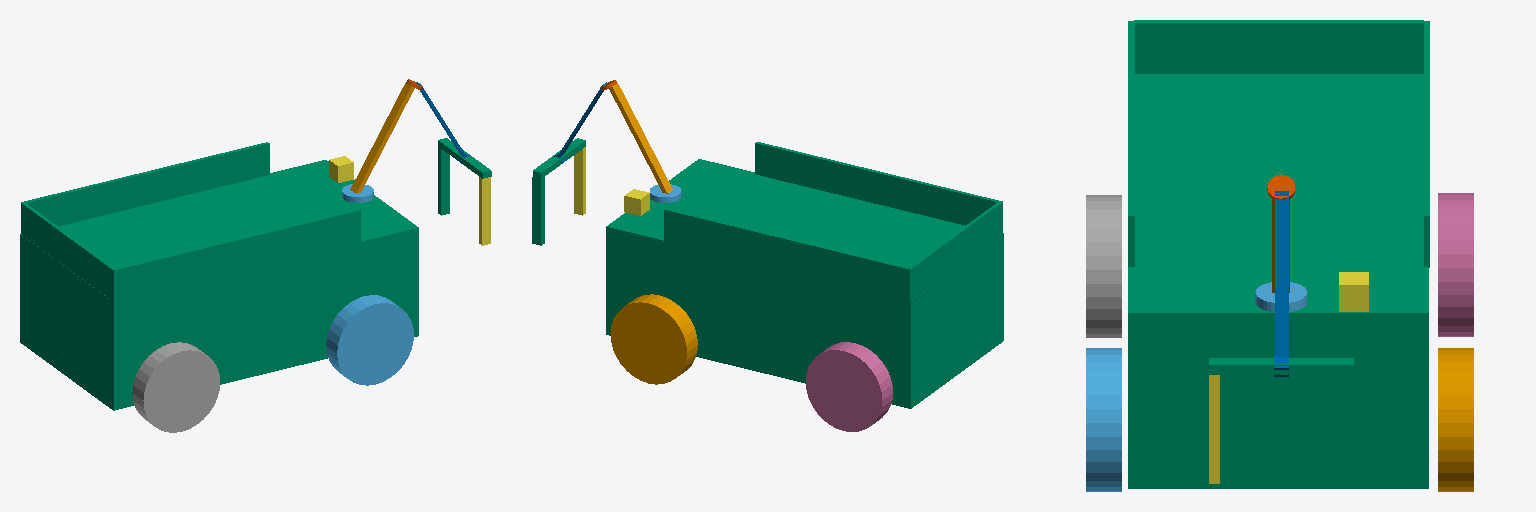
The robot description file, URDF, robot "rover":
<?xml version="1.0"?>
  <robot name="rover">

    <link name="LinkFirstAxis">
      <inertial>
        <origin xyz="0 0 0" rpy="0 0 0"/>
        <mass value="1"/>
        <inertia ixx="10" ixy="10" ixz="10" iyy="10" iyz="10" izz="10"/>
      </inertial>
      <visual>
        <origin xyz="0 0 0" rpy="0 3.14159 0"/>
        <geometry>
          <box size="0.05499 0.1206 1.3267"/>
        </geometry>
      </visual>
      <collision name="FirstAxis">
        <origin xyz="0 0 0" rpy="0 3.14159 0"/>
        <geometry>
          <box size="0.05499 0.1206 1.3267"/>
        </geometry>
      </collision>
    </link>

    <link name="LinkFirstCylinder">
      <inertial>
        <origin xyz="0 0 0" rpy="0 0 0"/>
        <mass value="1"/>
        <inertia ixx="10" ixy="10" ixz="10" iyy="10" iyz="10" izz="10"/>
      </inertial>
      <visual>
        <origin xyz="0 0 0" rpy="0 0 0"/>
        <geometry>
          <cylinder radius="0.17273" length="0.07044"/>
        </geometry>
      </visual>
    </link>

    <link name="LinkMainTool">
      <inertial>
        <origin xyz="0 0 0" rpy="0 0 0"/>
        <mass value="1"/>
        <inertia ixx="10" ixy="10" ixz="10" iyy="10" iyz="10" izz="10"/>
      </inertial>
      <visual>
        <origin xyz="0 -0.4457 0.43202" rpy="1.5708 0 0"/>
        <geometry>
          <box size="0.11162 0.79854 0.07285"/>
        </geometry>
      </visual>
      <visual>
        <origin xyz="0 0 0" rpy="0 0 0"/>
        <geometry>
          <box size="0.11162 0.96219 0.07285"/>
        </geometry>
      </visual>
      <collision name="FixedTool">
        <origin xyz="0 -0.4457 0.43202" rpy="1.5708 0 0"/>
        <geometry>
          <box size="0.11162 0.79854 0.07285"/>
        </geometry>
      </collision>
      <collision name="MainTool">
        <origin xyz="0 0 0" rpy="0 0 0"/>
        <geometry>
          <box size="0.11162 0.96219 0.07285"/>
        </geometry>
      </collision>
    </link>

    <link name="LinkPrismaticTool">
      <inertial>
        <origin xyz="0 0 0" rpy="0 0 0"/>
        <mass value="1"/>
        <inertia ixx="10" ixy="10" ixz="10" iyy="10" iyz="10" izz="10"/>
      </inertial>
      <visual>
        <origin xyz="0 0 0" rpy="0 0 0"/>
        <geometry>
          <box size="0.11162 0.79854 0.07285"/>
        </geometry>
      </visual>
      <collision name="PrismaticTool">
        <origin xyz="0 0 0" rpy="0 0 0"/>
        <geometry>
          <box size="0.11162 0.79854 0.07285"/>
        </geometry>
      </collision>
    </link>

    <link name="LinkSecondAxis">
      <inertial>
        <origin xyz="0 0 0" rpy="0 0 0"/>
        <mass value="1"/>
        <inertia ixx="10" ixy="10" ixz="10" iyy="10" iyz="10" izz="10"/>
      </inertial>
      <visual>
        <origin xyz="0 0 0" rpy="0 3.14159 0"/>
        <geometry>
          <box size="0.02784 0.09213 1.15343"/>
        </geometry>
      </visual>
      <collision name="SecondAxis">
        <origin xyz="0 0 0" rpy="0 3.14159 0"/>
        <geometry>
          <box size="0.02784 0.09213 1.15343"/>
        </geometry>
      </collision>
    </link>

    <link name="LinkSecondCylinder">
      <inertial>
        <origin xyz="0 0 0" rpy="0 0 0"/>
        <mass value="1"/>
        <inertia ixx="10" ixy="10" ixz="10" iyy="10" iyz="10" izz="10"/>
      </inertial>
      <visual>
        <origin xyz="0 0 0" rpy="0 0 0"/>
        <geometry>
          <cylinder radius="0.09296" length="0.03791"/>
        </geometry>
      </visual>
    </link>

    <link name="LinkWheelBackLeft">
      <inertial>
        <origin xyz="0 0 0" rpy="0 0 0"/>
        <mass value="50"/>
        <inertia ixx="10" ixy="10" ixz="10" iyy="10" iyz="10" izz="10"/>
      </inertial>
      <visual>
        <origin xyz="0 0 0" rpy="0 0 0"/>
        <geometry>
          <cylinder radius="0.47719" length="0.23635"/>
        </geometry>
      </visual>
      <collision name="WheelBackLeft">
        <origin xyz="0 0 0" rpy="0 0 0"/>
        <geometry>
          <cylinder radius="0.47719" length="0.23635"/>
        </geometry>
      </collision>
    </link>

    <link name="LinkWheelBackRight">
      <inertial>
        <origin xyz="0 0 0" rpy="0 0 0"/>
        <mass value="50"/>
        <inertia ixx="10" ixy="10" ixz="10" iyy="10" iyz="10" izz="10"/>
      </inertial>
      <visual>
        <origin xyz="0 0 0" rpy="0 0 0"/>
        <geometry>
          <cylinder radius="0.47719" length="0.23635"/>
        </geometry>
      </visual>
      <collision name="WheelBackRight">
        <origin xyz="0 0 0" rpy="0 0 0"/>
        <geometry>
          <cylinder radius="0.47719" length="0.23635"/>
        </geometry>
      </collision>
    </link>

    <link name="LinkWheelFrontLeft">
      <inertial>
        <origin xyz="0 0 0" rpy="0 0 0"/>
        <mass value="50"/>
        <inertia ixx="10" ixy="10" ixz="10" iyy="10" iyz="10" izz="10"/>
      </inertial>
      <visual>
        <origin xyz="0 0 0" rpy="0 0 0"/>
        <geometry>
          <cylinder radius="0.47719" length="0.23635"/>
        </geometry>
      </visual>
      <collision name="WheelFrontLeft">
        <origin xyz="0 0 0" rpy="0 0 0"/>
        <geometry>
          <cylinder radius="0.47719" length="0.23635"/>
        </geometry>
      </collision>
    </link>

    <link name="LinkWheelFrontRight">
      <inertial>
        <origin xyz="0 0 0" rpy="0 0 0"/>
        <mass value="50"/>
        <inertia ixx="10" ixy="10" ixz="10" iyy="10" iyz="10" izz="10"/>
      </inertial>
      <visual>
        <origin xyz="0 0 0" rpy="0 0 0"/>
        <geometry>
          <cylinder radius="0.47719" length="0.23635"/>
        </geometry>
      </visual>
      <collision name="WheelFrontRight">
        <origin xyz="0 0 0" rpy="0 0 0"/>
        <geometry>
          <cylinder radius="0.47719" length="0.23635"/>
        </geometry>
      </collision>
    </link>

    <link name="MainLink">
      <inertial>
        <origin xyz="0 0 0" rpy="0 0 0"/>
        <mass value="80.0"/>
        <inertia ixx="10" ixy="10" ixz="10" iyy="10" iyz="10" izz="10"/>
      </inertial>
      <visual>
        <origin xyz="0 0 0" rpy="0 0 0"/>
        <geometry>
          <box size="3.79233 2.0 1.28901"/>
        </geometry>
      </visual>
      <visual>
        <origin xyz="-1.87213 0 0.82748" rpy="0 0 1.5708"/>
        <geometry>
          <box size="1.92416 0.0425 0.38178"/>
        </geometry>
      </visual>
      <visual>
        <origin xyz="-0.3584 0.98504 0.82748" rpy="0 0 0"/>
        <geometry>
          <box size="3.06457 0.0425 0.38178"/>
        </geometry>
      </visual>
      <visual>
        <origin xyz="-0.3584 -0.97745 0.82748" rpy="0 0 0"/>
        <geometry>
          <box size="3.06457 0.0425 0.38178"/>
        </geometry>
      </visual>
      <collision name="MainCube">
        <origin xyz="0 0 0" rpy="0 0 0"/>
        <geometry>
          <box size="3.79233 2.0 1.28901"/>
        </geometry>
      </collision>
      <collision name="MiniBoxBack">
        <origin xyz="-1.87213 0 0.82748" rpy="0 0 1.5708"/>
        <geometry>
          <box size="1.92416 0.0425 0.38178"/>
        </geometry>
      </collision>
      <collision name="MiniBoxLeft">
        <origin xyz="-0.3584 0.98504 0.82748" rpy="0 0 0"/>
        <geometry>
          <box size="3.06457 0.0425 0.38178"/>
        </geometry>
      </collision>
      <collision name="MiniBoxRight">
        <origin xyz="-0.3584 -0.97745 0.82748" rpy="0 0 0"/>
        <geometry>
          <box size="3.06457 0.0425 0.38178"/>
        </geometry>
      </collision>
    </link>

    <link name="CameraLink">
      <inertial>
        <origin xyz="0 0 0" rpy="0 0 0"/>
        <mass value="1.0"/>
        <inertia ixx="10" ixy="10" ixz="10" iyy="10" iyz="10" izz="10"/>
      </inertial>
      <visual>
        <origin xyz="0 0 0" rpy="0 0 0"/>
        <geometry>
          <box size="0.2 0.2 0.2"/>
        </geometry>
      </visual>
      <collision name="collision">
        <origin xyz="0 0 0" rpy="0 0 0"/>
        <geometry>
          <box size="0.2 0.2 0.2"/>
        </geometry>
      </collision>
    </link>

    <link name="CameraToolLink">
      <visual>
        <origin xyz="0 0 0" rpy="0 0 0"/>
        <geometry>
          <box size="0.1 0.1 0.1"/>
        </geometry>
      </visual>
    </link>

   <joint name="JointFirstAxis" type="continuous">
      <origin xyz="0.30496 -0.00153 0.57386" rpy="0 -0.55364 -3.14159"/>
      <parent link="LinkFirstCylinder"/>
      <child link="LinkFirstAxis"/>
      <axis xyz="0 0 1.0"/>
    </joint>

    <joint name="JointFirstCylinder" type="continuous">
      <origin xyz="1.72438 0.01793 0.67942" rpy="0 0 0"/>
      <parent link="MainLink"/>
      <child link="LinkFirstCylinder"/>
      <axis xyz="0 -0.99528 -0.09705"/>
    </joint>

    <joint name="JointMainTool" type="continuous">
      <origin xyz="0.00634 0.0044 -0.59229" rpy="0 2.62128 0"/>
      <parent link="LinkSecondAxis"/>
      <child link="LinkMainTool"/>
      <axis xyz="0.06699 -0.99767 0.01285"/>
    </joint>

    <joint name="JointPrismaticTool" type="prismatic">
      <origin xyz="0 0.44383 0.43202" rpy="1.5708 0 0"/>
      <parent link="LinkMainTool"/>
      <child link="LinkPrismaticTool"/>
      <axis xyz="0 0 1.0"/>
      <limit lower="0" upper="0.5" effort="10" velocity="10"/>
    </joint>

    <joint name="JointSecondAxis" type="continuous">
      <origin xyz="0.54297 0.00247 -0.25169" rpy="0 1.07395 -3.14159"/>
      <parent link="LinkSecondCylinder"/>
      <child link="LinkSecondAxis"/>
      <axis xyz="-0.21236 0.04177 -0.9763"/>
    </joint>

    <joint name="JointSecondCylinder" type="continuous">
      <origin xyz="-0.05158 -0.00153 0.67936" rpy="0 0 3.14159"/>
      <parent link="LinkFirstAxis"/>
      <child link="LinkSecondCylinder"/>
      <axis xyz="0 0 1.0"/>
    </joint>

    <joint name="joint_camera" type="fixed">
      <origin xyz="1.8 0.5 0.75" rpy="0 0 0"/>
      <parent link="MainLink"/>
      <child link="CameraLink"/>
      <axis xyz="0 0 1.0"/>
    </joint>

    <joint name="joint_camera_tool" type="fixed">
      <origin xyz="0 0 0" rpy="0 -90 0"/>
      <parent link="LinkMainTool"/>
      <child link="CameraToolLink"/>
      <axis xyz="0 0 1.0"/>
    </joint>

    <joint name="joint_wheel_back_left" type="continuous">
      <origin xyz="-1.23386 1.1772 -0.46428" rpy="1.5708 0 0"/>
      <parent link="MainLink"/>
      <child link="LinkWheelBackLeft"/>
      <axis xyz="0 0 -1.0"/>
    </joint>

    <joint name="joint_wheel_back_right" type="continuous">
      <origin xyz="-1.20753 -1.15931 -0.46427" rpy="1.5708 0 0"/>
      <parent link="MainLink"/>
      <child link="LinkWheelBackRight"/>
      <axis xyz="0 0 -1.0"/>
    </joint>

    <joint name="joint_wheel_front_left" type="continuous">
      <origin xyz="1.19673 1.1772 -0.46427" rpy="1.5708 0 0"/>
      <parent link="MainLink"/>
      <child link="LinkWheelFrontLeft"/>
      <axis xyz="0 0 -1.0"/>
    </joint>

    <joint name="joint_wheel_front_right" type="continuous">
      <origin xyz="1.19673 -1.15931 -0.46427" rpy="1.5708 0 0"/>
      <parent link="MainLink"/>
      <child link="LinkWheelFrontRight"/>
      <axis xyz="0 0 -1.0"/>
    </joint>

    <gazebo>
      <plugin name="gazebo_ros_control" filename="libgazebo_ros_control.so">
        <robotNamespace>/rover</robotNamespace>
      </plugin>
    </gazebo>

    <gazebo reference="CameraLink">
      <sensor name='cam_sensor' type='camera'>
        <pose>1.8 0.5 0.75 0 0 0</pose>
        <update_rate>20.000000</update_rate>
        <camera name='CameraLink'>
          <horizontal_fov>1.570000</horizontal_fov>
          <image>
            <width>320</width>
            <height>240</height>
            <format>R8G8B8</format>
          </image>
          <clip>
            <near>0.100000</near>
            <far>15.000000</far>
          </clip>
        </camera>
        <plugin name="camera_controller" filename="libgazebo_ros_camera.so">
          <alwaysOn>true</alwaysOn>
          <updateRate>0.0</updateRate>
          <cameraName>camera</cameraName>
          <imageTopicName>image_raw</imageTopicName>
          <cameraInfoTopicName>camera_info</cameraInfoTopicName>
          <frameName>camera_top_body</frameName>
          <hackBaseline>0.07</hackBaseline>
          <distortionK1>0.0</distortionK1>
          <distortionK2>0.0</distortionK2>
          <distortionK3>0.0</distortionK3>
          <distortionT1>0.0</distortionT1>
          <distortionT2>0.0</distortionT2>
        </plugin>
      </sensor>
    </gazebo>

    <gazebo reference="CameraToolLink">
      <sensor name='cam_sensor' type='camera'>
        <pose>1.8 0.5 5 0 0 0</pose>
        <update_rate>20.000000</update_rate>
        <camera name='CameraToolLink'>
          <horizontal_fov>1.570000</horizontal_fov>
          <image>
            <width>320</width>
            <height>240</height>
            <format>R8G8B8</format>
          </image>
          <clip>
            <near>0.100000</near>
            <far>15.000000</far>
          </clip>
        </camera>
        <plugin name="camera_controller" filename="libgazebo_ros_camera.so">
          <alwaysOn>true</alwaysOn>
          <updateRate>0.0</updateRate>
          <cameraName>camera_tool</cameraName>
          <imageTopicName>image_raw</imageTopicName>
          <cameraInfoTopicName>camera_info</cameraInfoTopicName>
          <frameName>camera_top_body</frameName>
          <hackBaseline>0.07</hackBaseline>
          <distortionK1>0.0</distortionK1>
          <distortionK2>0.0</distortionK2>
          <distortionK3>0.0</distortionK3>
          <distortionT1>0.0</distortionT1>
          <distortionT2>0.0</distortionT2>
        </plugin>
      </sensor>
    </gazebo>

    <transmission name="joint_wheel_front_right_trans">
      <type>transmission_interface/SimpleTransmission</type>
      <actuator name="motor1">
        <mechanicalReduction>1</mechanicalReduction>
      </actuator>
      <joint name="joint_wheel_front_right">
        <hardwareInterface>hardware_interface/VelocityJointInterface</hardwareInterface>
      </joint>
    </transmission>

    <transmission name="joint_wheel_front_left_trans">
      <type>transmission_interface/SimpleTransmission</type>
      <actuator name="motor2">
        <mechanicalReduction>1</mechanicalReduction>
        <hardwareInterface>hardware_interface/VelocityJointInterface</hardwareInterface>
      </actuator>
      <joint name="joint_wheel_front_left">
        <hardwareInterface>hardware_interface/VelocityJointInterface</hardwareInterface>
      </joint>
    </transmission>

    <transmission name="joint_wheel_back_right_trans">
      <type>transmission_interface/SimpleTransmission</type>
      <actuator name="motor3">
        <mechanicalReduction>1</mechanicalReduction>
        <hardwareInterface>hardware_interface/VelocityJointInterface</hardwareInterface>
      </actuator>
      <joint name="joint_wheel_back_right">
        <hardwareInterface>hardware_interface/VelocityJointInterface</hardwareInterface>
      </joint>
    </transmission>

    <transmission name="joint_wheel_back_left_trans">
      <type>transmission_interface/SimpleTransmission</type>
      <actuator name="motor4">
        <mechanicalReduction>1</mechanicalReduction>
        <hardwareInterface>hardware_interface/VelocityJointInterface</hardwareInterface>
      </actuator>
      <joint name="joint_wheel_back_left">
        <hardwareInterface>hardware_interface/VelocityJointInterface</hardwareInterface>
      </joint>
    </transmission>

    <transmission name="joint_first_axis_trans">
      <type>transmission_interface/SimpleTransmission</type>
      <actuator name="motor5">
        <mechanicalReduction>1</mechanicalReduction>
        <hardwareInterface>hardware_interface/VelocityJointInterface</hardwareInterface>
      </actuator>
      <joint name="JointFirstAxis">
        <hardwareInterface>hardware_interface/VelocityJointInterface</hardwareInterface>
      </joint>
    </transmission>

    <transmission name="joint_first_cylinder_trans">
      <type>transmission_interface/SimpleTransmission</type>
      <actuator name="motor5">
        <mechanicalReduction>1</mechanicalReduction>
        <hardwareInterface>hardware_interface/VelocityJointInterface</hardwareInterface>
      </actuator>
      <joint name="JointFirstCylinder">
        <hardwareInterface>hardware_interface/VelocityJointInterface</hardwareInterface>
      </joint>
    </transmission>

    <transmission name=" joint_main_tool_trans">
      <type>transmission_interface/SimpleTransmission</type>
      <actuator name="motor6">
        <mechanicalReduction>1</mechanicalReduction>
        <hardwareInterface>hardware_interface/VelocityJointInterface</hardwareInterface>
      </actuator>
      <joint name="JointMainTool">
        <hardwareInterface>hardware_interface/VelocityJointInterface</hardwareInterface>
      </joint>
    </transmission>

    <transmission name="joint_prismatic_tool_trans">
      <type>transmission_interface/SimpleTransmission</type>
      <actuator name="motor7">
        <mechanicalReduction>1</mechanicalReduction>
        <hardwareInterface>hardware_interface/VelocityJointInterface</hardwareInterface>
      </actuator>
      <joint name="JointPrismaticTool">
        <hardwareInterface>hardware_interface/VelocityJointInterface</hardwareInterface>
      </joint>
    </transmission>

    <transmission name="joint_second_axis_trans">
      <type>transmission_interface/SimpleTransmission</type>
      <actuator name="motor8">
        <mechanicalReduction>1</mechanicalReduction>
        <hardwareInterface>hardware_interface/VelocityJointInterface</hardwareInterface>
      </actuator>
      <joint name="JointSecondAxis">
        <hardwareInterface>hardware_interface/VelocityJointInterface</hardwareInterface>
      </joint>
    </transmission>

    <transmission name="joint_second_cylinder_trans">
      <type>transmission_interface/SimpleTransmission</type>
      <actuator name="motor9">
        <mechanicalReduction>1</mechanicalReduction>
        <hardwareInterface>hardware_interface/VelocityJointInterface</hardwareInterface>
      </actuator>
      <joint name="JointSecondCylinder">
        <hardwareInterface>hardware_interface/VelocityJointInterface</hardwareInterface>
      </joint>
    </transmission>

    <gazebo reference="MainLink">
      <material>Gazebo/Red</material>
    </gazebo>

    <gazebo reference="LinkFirstAxis">
      <material>Gazebo/Gray</material>
    </gazebo>

    <gazebo reference="LinkFirstCylinder">
      <material>Gazebo/Gray</material>
    </gazebo>

    <gazebo reference="LinkMainTool">
      <material>Gazebo/Gray</material>
    </gazebo>

    <gazebo reference="LinkPrismaticTool">
      <material>Gazebo/Gray</material>
    </gazebo>

    <gazebo reference="LinkSecondAxis">
      <material>Gazebo/Gray</material>
    </gazebo>

    <gazebo reference="LinkSecondCylinder">
      <material>Gazebo/Gray</material>
    </gazebo>

    <gazebo reference="LinkWheelFrontRight">
      <material>Gazebo/Black</material>
    </gazebo>

    <gazebo reference="LinkWheelFrontLeft">
      <material>Gazebo/Black</material>
    </gazebo>

    <gazebo reference="LinkWheelBackRight">
      <material>Gazebo/Black</material>
    </gazebo>

    <gazebo reference="LinkWheelBackLeft">
      <material>Gazebo/Black</material>
    </gazebo>

    <gazebo reference="CameraLink">
      <material>Gazebo/Green</material>
    </gazebo>

    <gazebo reference="CameraToolLink">
      <material>Gazebo/Blue</material>
    </gazebo>

  </robot>

--- What the picture shows (computed from the rendered views, not written in the file) ---
The picture shows the robot from 3 angles, left to right: view 1: azimuth 30°, elevation 25°; view 2: azimuth 150°, elevation 25°; view 3: azimuth 270°, elevation 25°; orthographic projection.
Model rover with 13 links and 12 joints (9 continuous, 1 prismatic, 2 fixed), rooted at MainLink, posed all joints at 0.
Visible links, largest first — view 1: MainLink, LinkWheelFrontRight, LinkWheelBackRight, LinkMainTool, LinkFirstAxis, LinkPrismaticTool, CameraLink; view 2: MainLink, LinkWheelBackLeft, LinkWheelFrontLeft, LinkMainTool, LinkFirstAxis, LinkPrismaticTool, CameraLink; view 3: MainLink, LinkWheelBackLeft, LinkWheelFrontLeft, LinkWheelFrontRight, LinkWheelBackRight, LinkMainTool, LinkSecondAxis, CameraLink, LinkPrismaticTool, LinkFirstCylinder.
Link boxes in pixels (box(x1,y1,x2,y2)): MainLink: box(20, 142, 418, 410); LinkWheelFrontRight: box(326, 295, 413, 385); LinkWheelBackRight: box(132, 342, 219, 432); LinkMainTool: box(438, 138, 491, 215); LinkFirstAxis: box(350, 83, 414, 193); LinkPrismaticTool: box(479, 177, 490, 245); CameraLink: box(329, 156, 353, 182); MainLink: box(606, 142, 1003, 408); LinkWheelBackLeft: box(806, 342, 892, 431); LinkWheelFrontLeft: box(610, 294, 697, 384); LinkMainTool: box(532, 138, 585, 245); LinkFirstAxis: box(609, 83, 672, 193); LinkPrismaticTool: box(574, 147, 585, 215); CameraLink: box(624, 189, 649, 215); MainLink: box(1128, 20, 1429, 488); LinkWheelBackLeft: box(1438, 193, 1473, 336); LinkWheelFrontLeft: box(1438, 348, 1473, 491); LinkWheelFrontRight: box(1086, 348, 1121, 491); LinkWheelBackRight: box(1086, 195, 1121, 337); LinkMainTool: box(1209, 358, 1353, 483); LinkSecondAxis: box(1275, 191, 1288, 356); CameraLink: box(1339, 272, 1368, 311); LinkPrismaticTool: box(1209, 375, 1219, 483); LinkFirstCylinder: box(1255, 282, 1306, 311).
Bounding box of the posed robot: 5.01 × 2.57 × 2.81 m (x, y, z).
Geometry: primitives only (box / cylinder / sphere), no mesh files.
